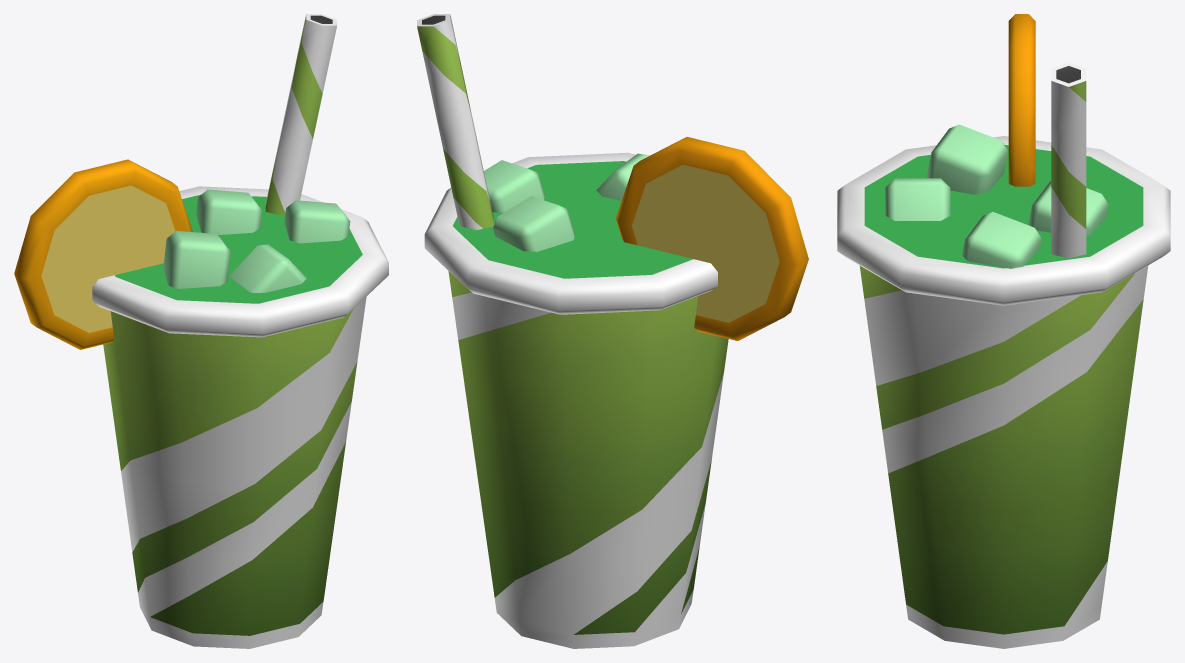
The model's file is Lemonade.fbx.
3 renders of one model, left to right at view 1: azimuth 30°, elevation 25°; view 2: azimuth 150°, elevation 25°; view 3: azimuth 270°, elevation 25°, orthographic. The views are drawn at different scales.
Parts seen in each view (by area): view 1: Map02_Douong_LV3; view 2: Map02_Douong_LV3; view 3: Map02_Douong_LV3.
Part boxes in pixels (x1,y1,x2,y2): Map02_Douong_LV3: [14, 14, 388, 648]; Map02_Douong_LV3: [417, 14, 808, 648]; Map02_Douong_LV3: [837, 14, 1170, 648].
Size of the model in its own units: 75.82 by 115 by 57.87.
